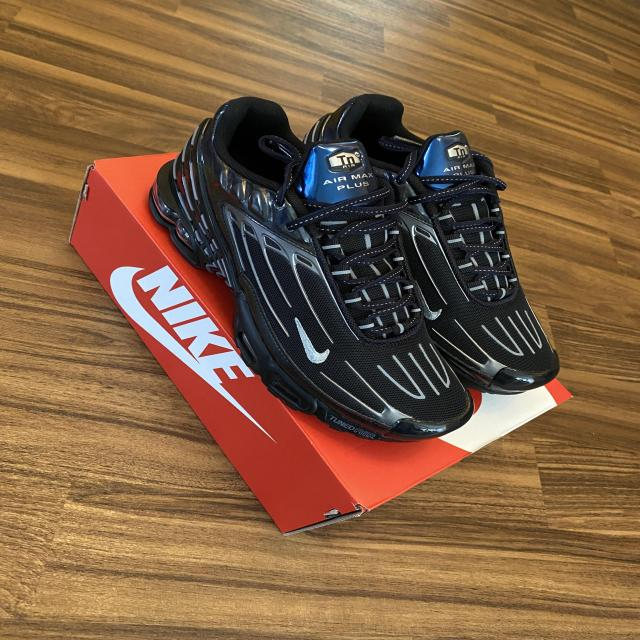shoes: (155, 87, 485, 457), (292, 86, 583, 403)
